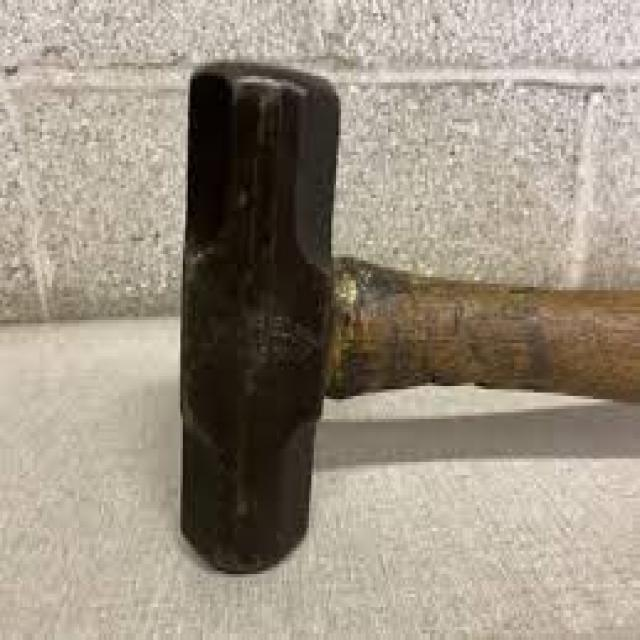hammer: (170, 46, 640, 580)
